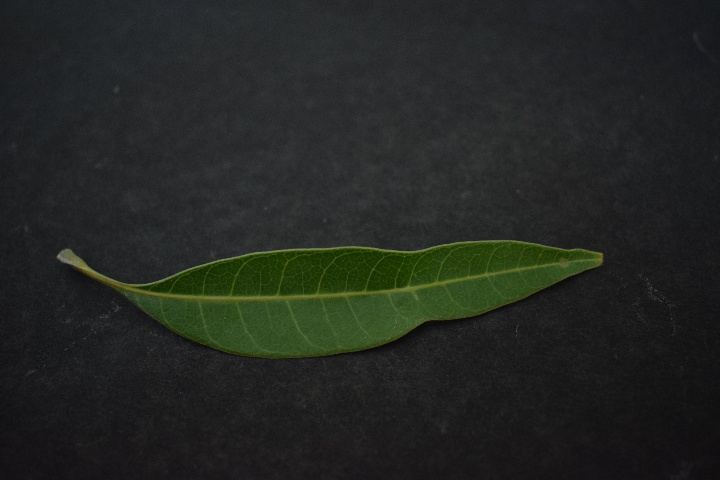healthy: (111, 237, 620, 357)
